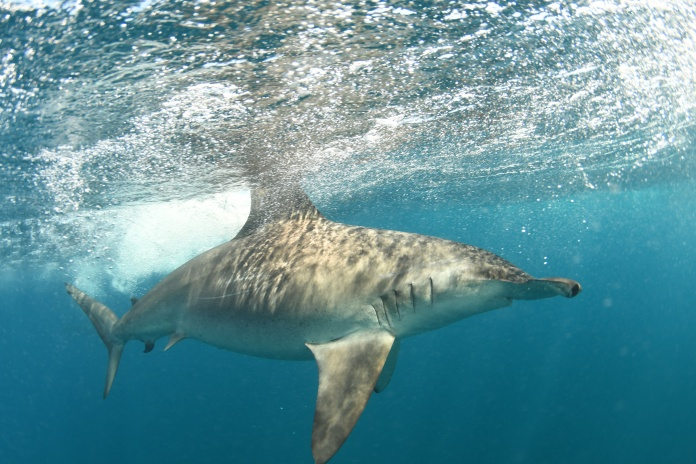Hammer: (24, 161, 638, 463)
